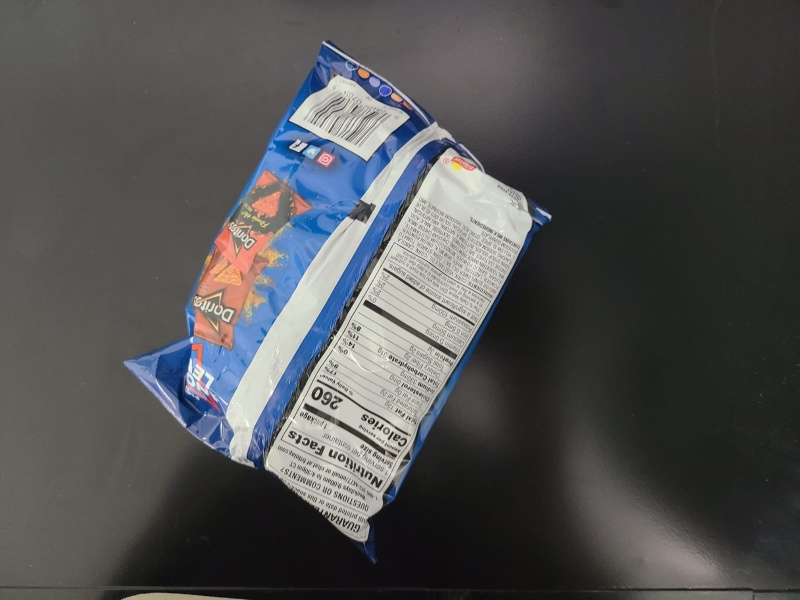doritos: (121, 43, 549, 565)
